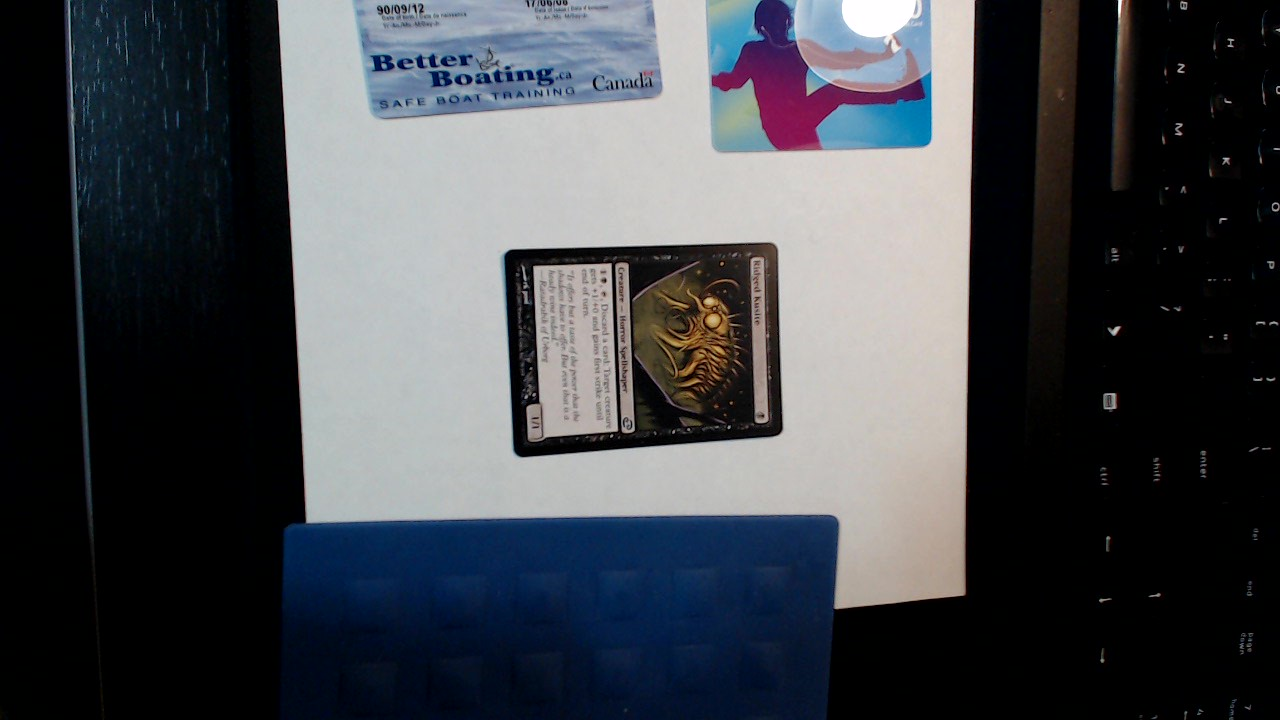MTG Card: (491, 236, 803, 464)
